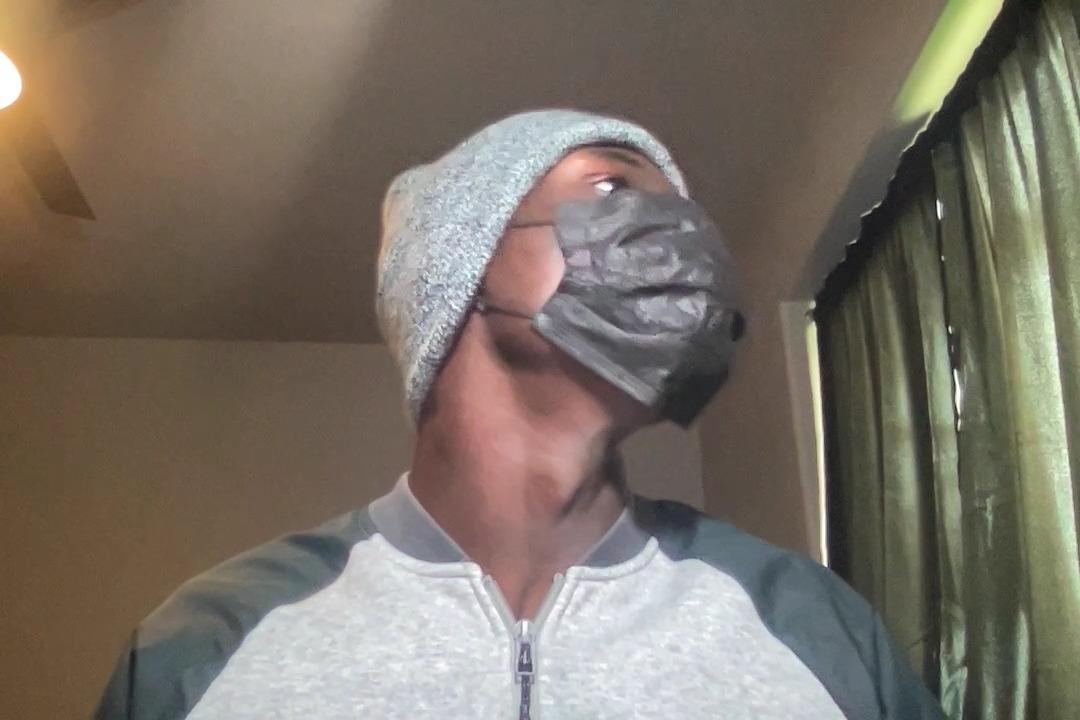face: (441, 115, 751, 430)
